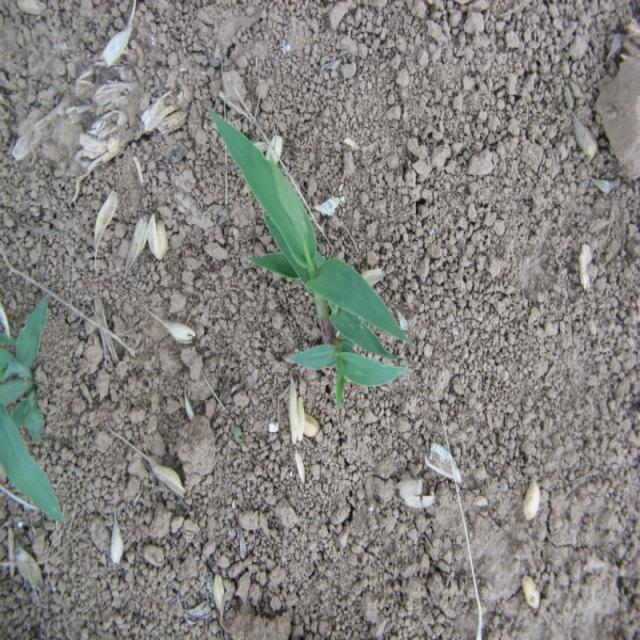bg: (211, 118, 410, 399)
